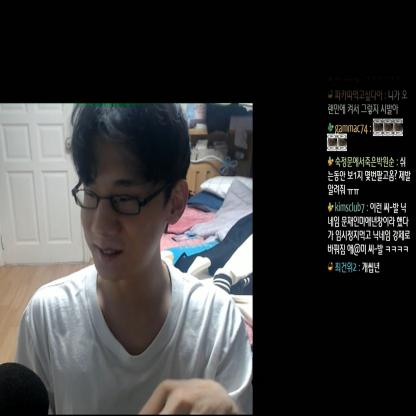streamer: (18, 103, 252, 416)
